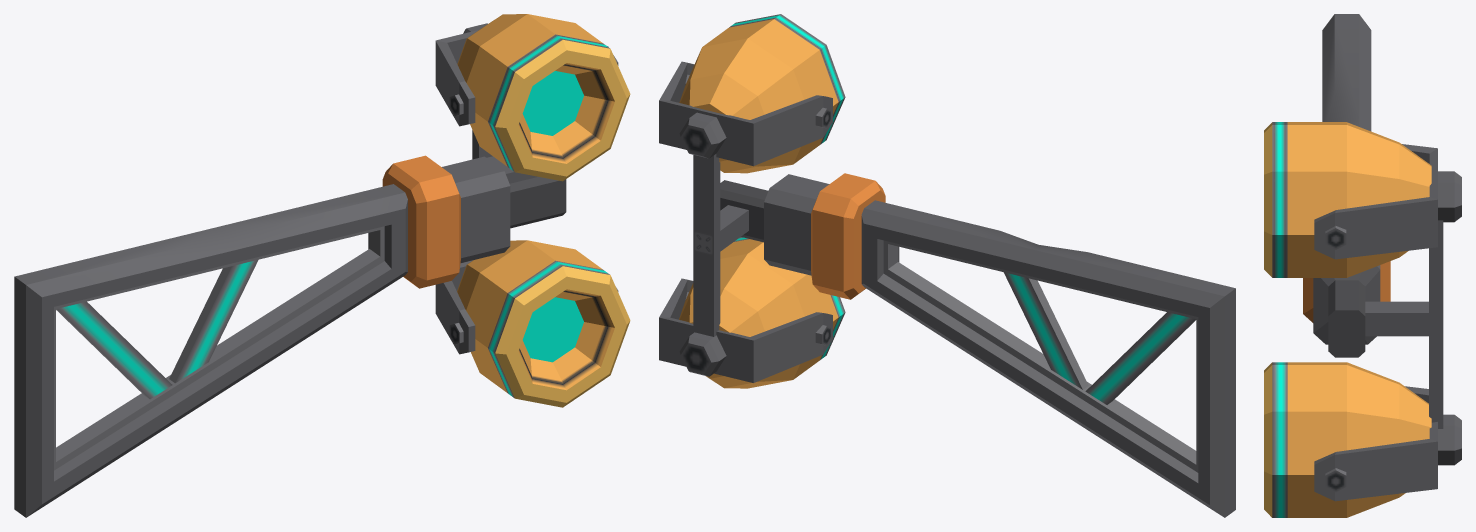
File: SM_Prop_Lamp_05.fbx
3 renders of one model, left to right at view 1: azimuth 30°, elevation 25°; view 2: azimuth 150°, elevation 25°; view 3: azimuth 270°, elevation 25°, orthographic. The views are drawn at different scales.
Parts seen in each view (by area): view 1: SM_Prop_Lamp_05; view 2: SM_Prop_Lamp_05; view 3: SM_Prop_Lamp_05.
Boxes of the visible parts, x1=… form: SM_Prop_Lamp_05: x1=14, y1=14, x2=630, y2=517; SM_Prop_Lamp_05: x1=659, y1=14, x2=1235, y2=517; SM_Prop_Lamp_05: x1=1264, y1=14, x2=1461, y2=517.
Bounding box in the file's own units: 172 × 105 × 47.33.
